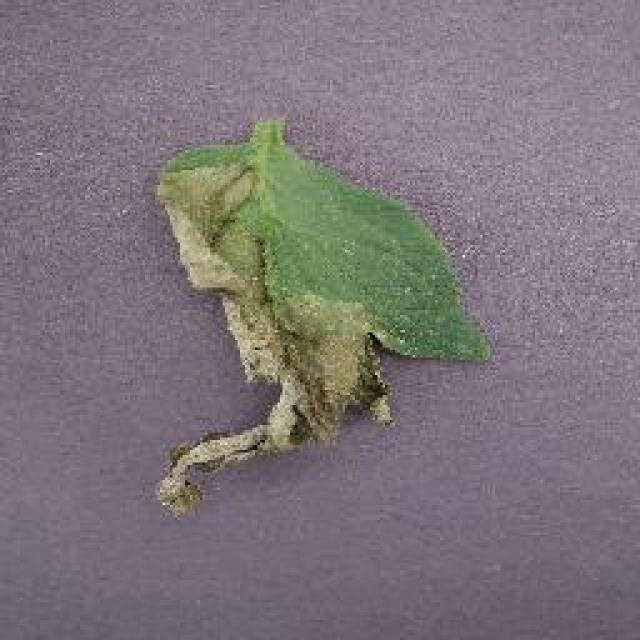Tomato_Late_Blight: (149, 154, 383, 516)
